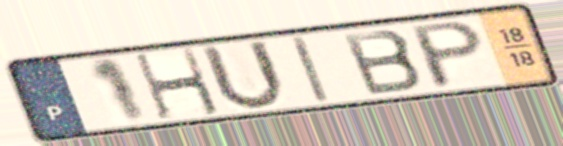1: (88, 55, 153, 127)
B: (338, 27, 427, 98)
H: (130, 46, 225, 122)
I: (286, 33, 334, 106)
P: (408, 18, 487, 92)
U: (197, 38, 289, 113)
